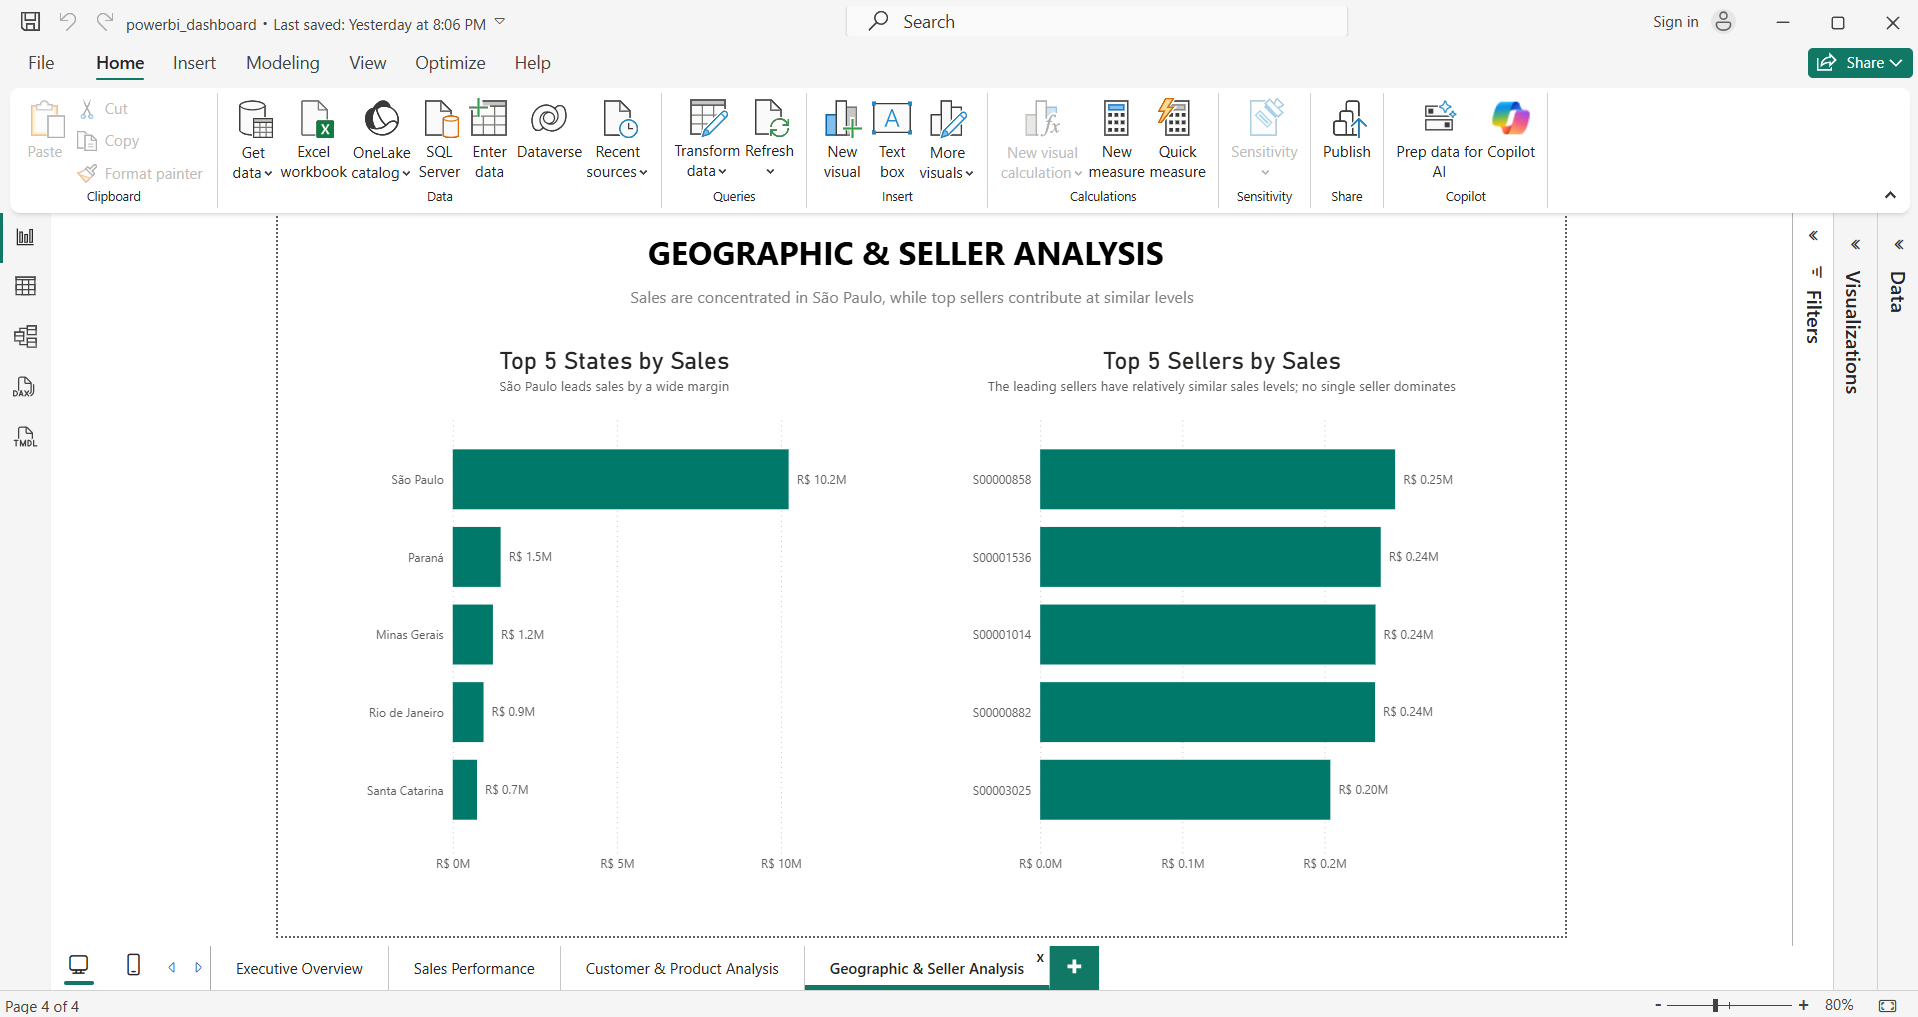

The dashboard page shown, as its layout file describes it:
{"tool":"powerbi","page":{"name":"Geographic & Seller Analysis","canvas":[1280,720],"ordinal":3},"visuals":[{"type":"clusteredBarChart","title":"Top 5 States by Sales","fields":{"Y":["Measure Table.Total Sales"],"Category":["gold dim_sellers.State Display"]},"box":[77.6,133.5,515.2,532.3],"z":0},{"type":"clusteredBarChart","title":"Top 5 Sellers by Sales","fields":{"Category":["gold dim_sellers.seller_key"],"Y":["Measure Table.Total Sales"]},"box":[681.3,133.5,515.2,532.3],"z":1000},{"type":"textbox","box":[363.2,12.4,552.3,65.9],"z":2000},{"type":"textbox","box":[346.1,66.7,585.1,41.9],"z":3000}]}

Visuals, with their boxes on the page's 1280x720 design canvas (x1, y1, x2, y2). These are canvas units, not pixel positions in the 1918x1017 screenshot, which may show the page scaled, cropped or inside an application window:
"Top 5 States by Sales" clusteredBarChart: detection(78, 134, 593, 666)
"Top 5 Sellers by Sales" clusteredBarChart: detection(681, 134, 1196, 666)
textbox: detection(363, 12, 916, 78)
textbox: detection(346, 67, 931, 109)
